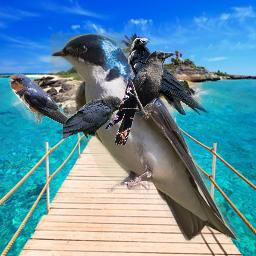Crow: (105, 50, 175, 145), (128, 37, 210, 115), (63, 95, 127, 139)
Swallow: (50, 33, 240, 244), (8, 73, 82, 129)
